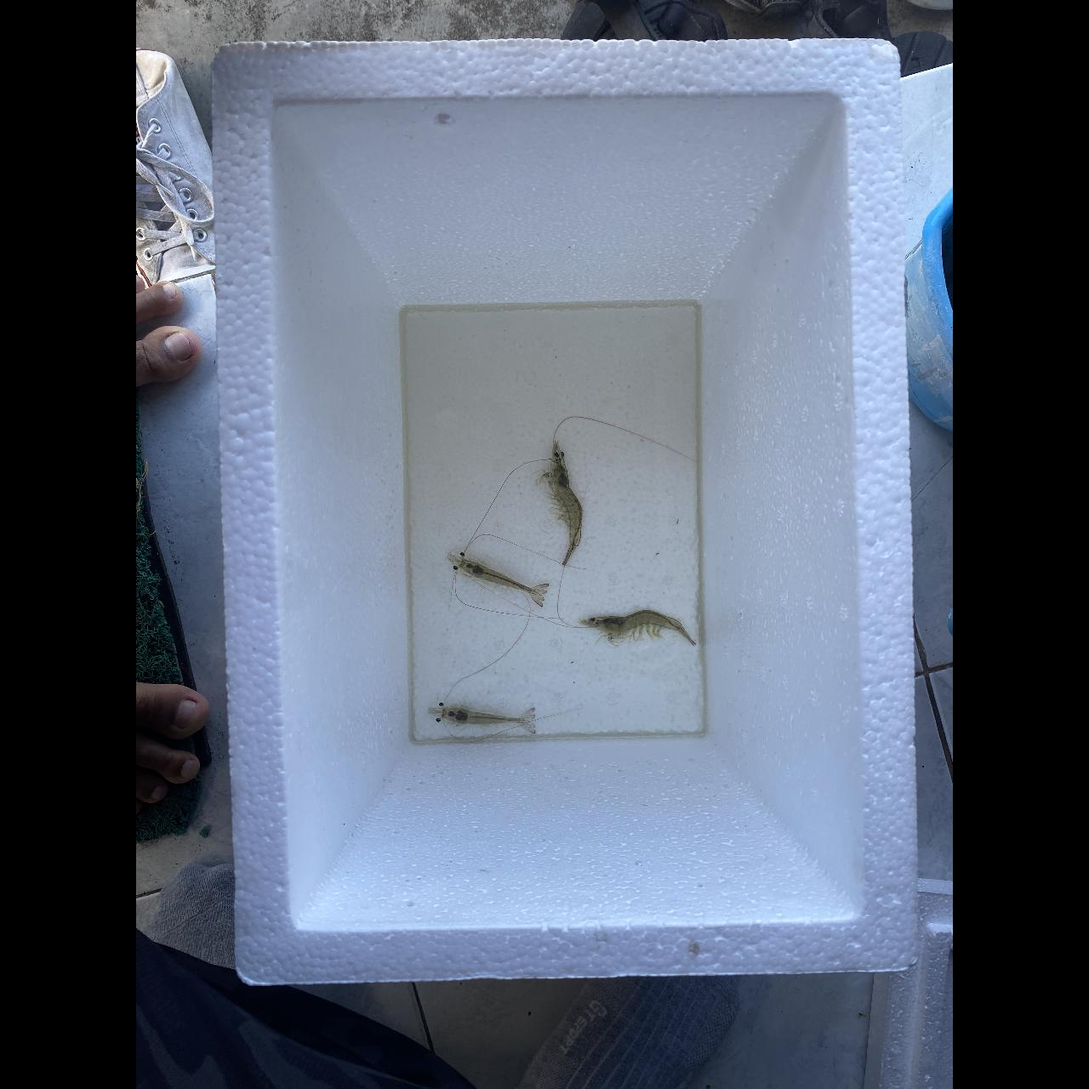side_shrimp: (601, 610, 694, 646), (552, 462, 583, 567)
top_shrimp: (462, 559, 542, 595), (444, 708, 530, 724)
